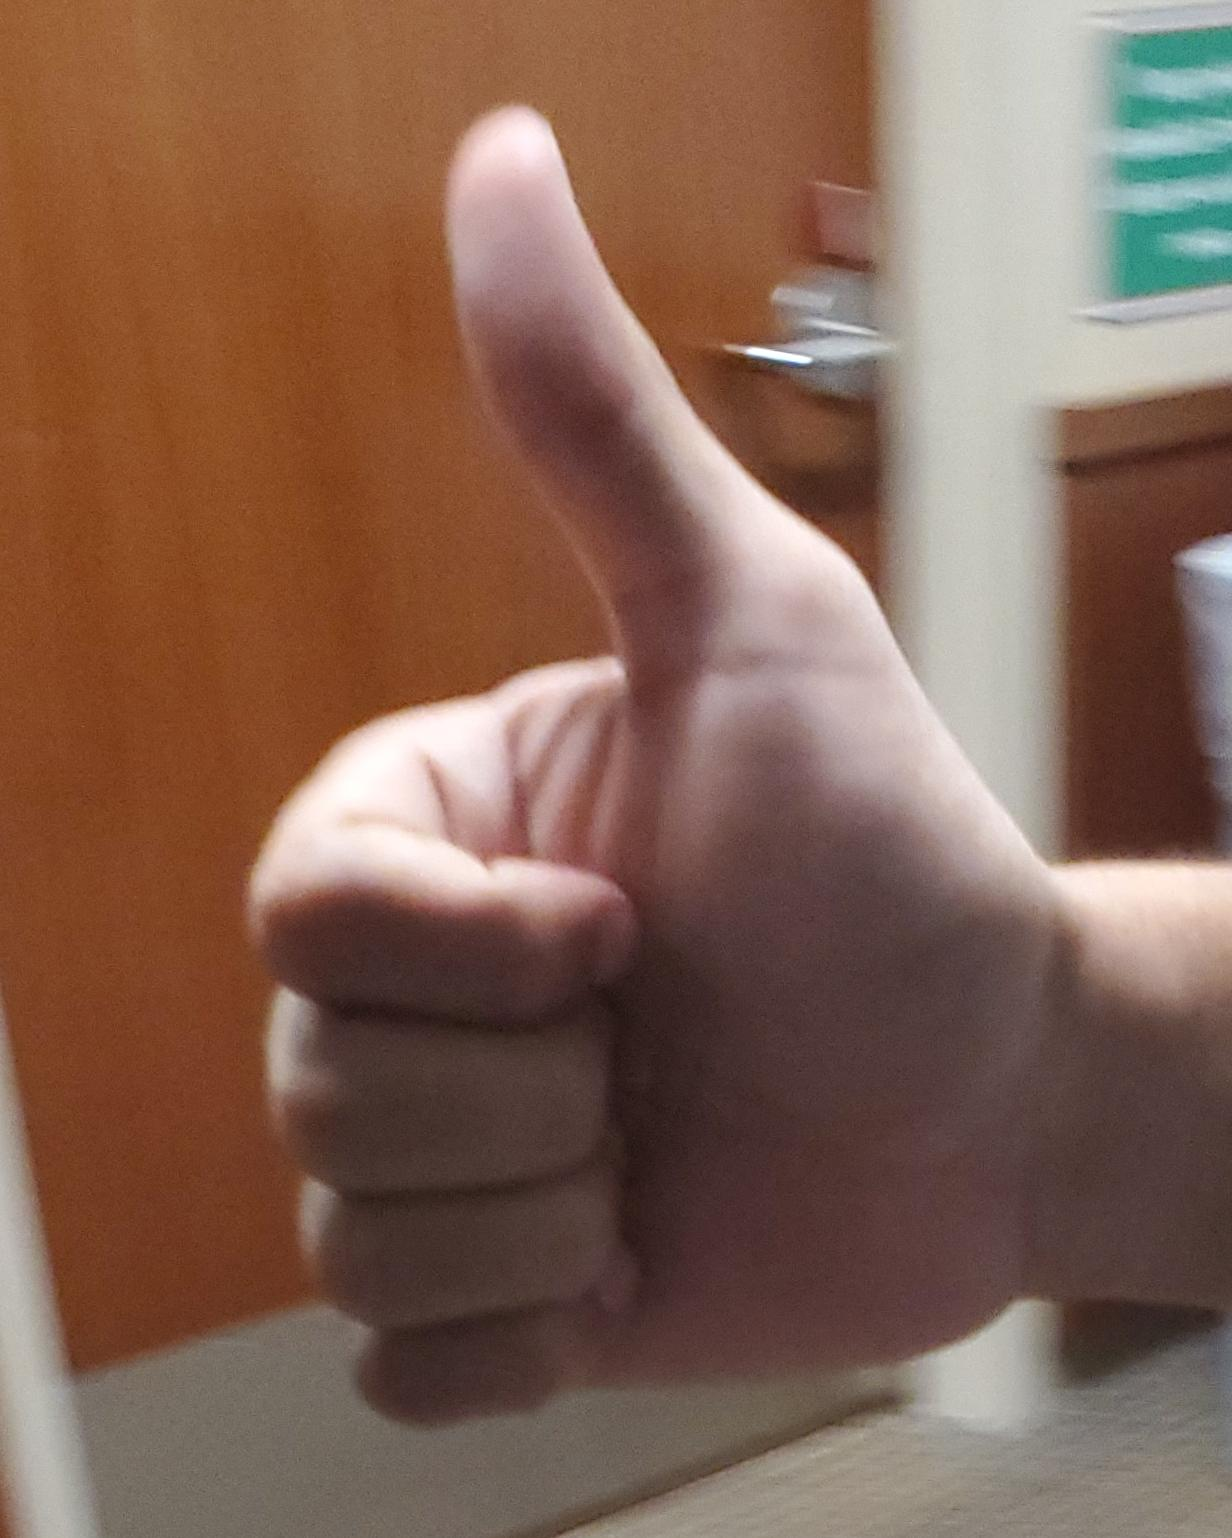up: (0, 1, 1232, 1538)
